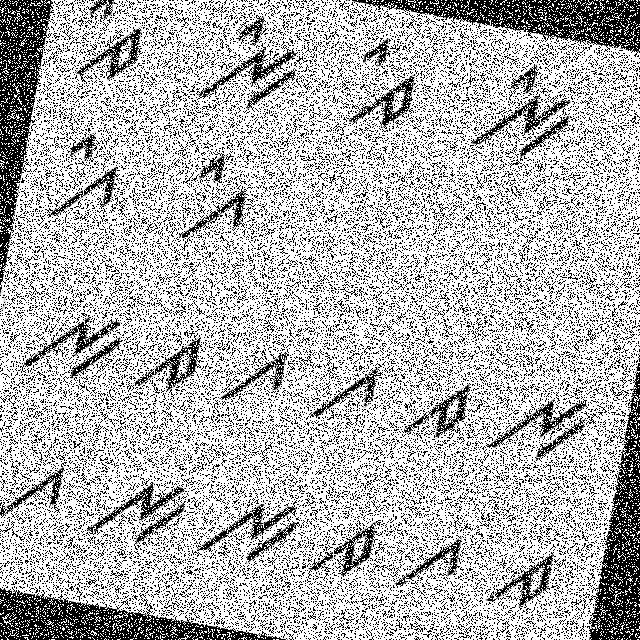ga: (390, 516, 470, 606), (302, 346, 382, 434), (0, 443, 75, 532), (214, 338, 293, 417)
gi: (159, 136, 264, 261), (42, 124, 132, 233)
nga: (7, 292, 132, 392), (190, 482, 302, 581), (81, 462, 194, 560), (484, 382, 592, 472)
ngi: (187, 2, 309, 124), (470, 50, 582, 163)
ta: (392, 371, 476, 452), (128, 324, 207, 409), (305, 506, 383, 592), (487, 544, 562, 619)
ti: (322, 24, 428, 140), (58, 0, 155, 103)
